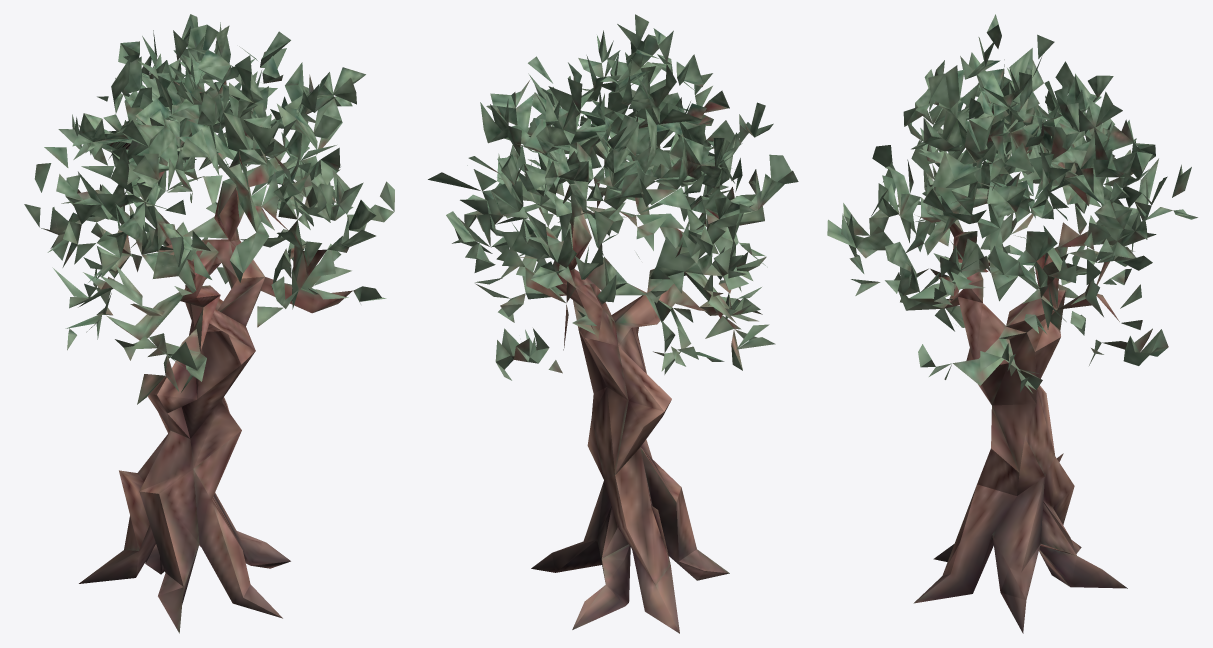
The model's file is prop_olive.glb.
The picture shows the model from 3 angles, left to right: view 1: azimuth 30°, elevation 25°; view 2: azimuth 150°, elevation 25°; view 3: azimuth 270°, elevation 25°; orthographic projection. The views are drawn at different scales.
Parts seen in each view (by area): view 1: body; view 2: body; view 3: body.
Boxes of the visible parts, x1,y1,x2,y2 form: body: (24,14,394,633); body: (428,14,798,633); body: (827,14,1197,633).
Size of the model in its own units: 2.45 by 4 by 2.41.
1 material, 1 textured.
